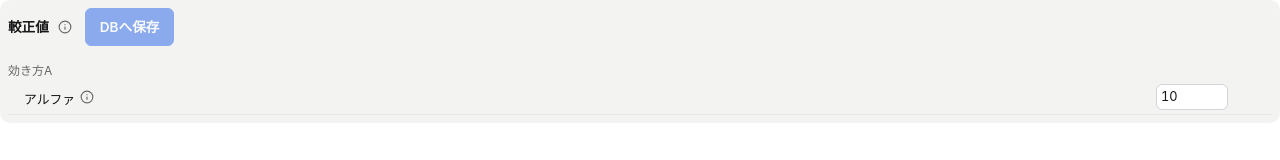
Test: TuningPanel › 保存を待つ間に打ち直した値は消さず、未保存として残す
Expected: the button "DBへ保存" is shown, [85,8,174,46]
Replace the text in the number field named "アルファ" with "12": (1192, 97) [1156,84,1228,110]
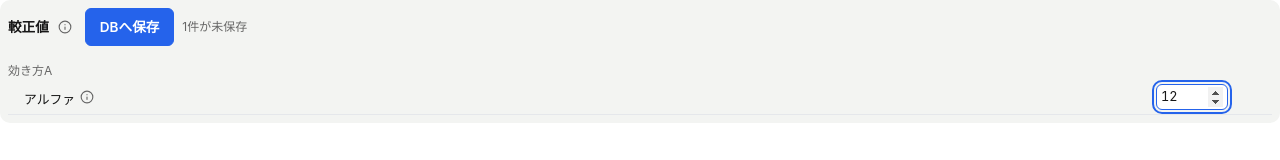
Click the button "DBへ保存": (130, 27) [85,8,174,46]
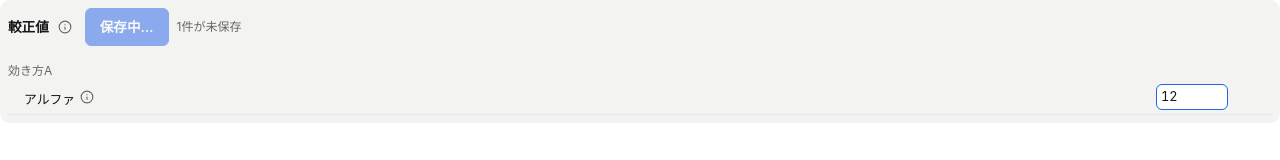
Now the button "保存中…" is shown, box [85,8,169,46]
Replace the text in the number field named "アルファ" with "15": (1192, 97) [1156,84,1228,110]
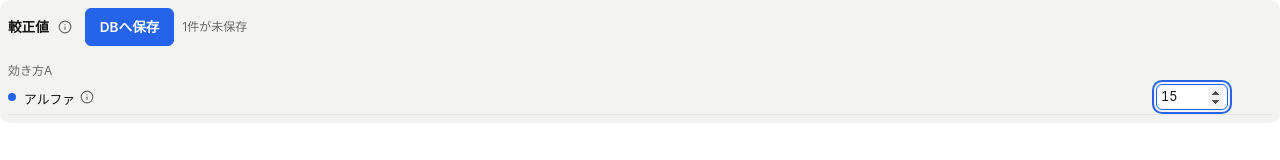
Now the text "1件が未保存" is shown, box [182,18,247,36]
Now the button "DBへ保存" is enabled, box [85,8,174,46]
